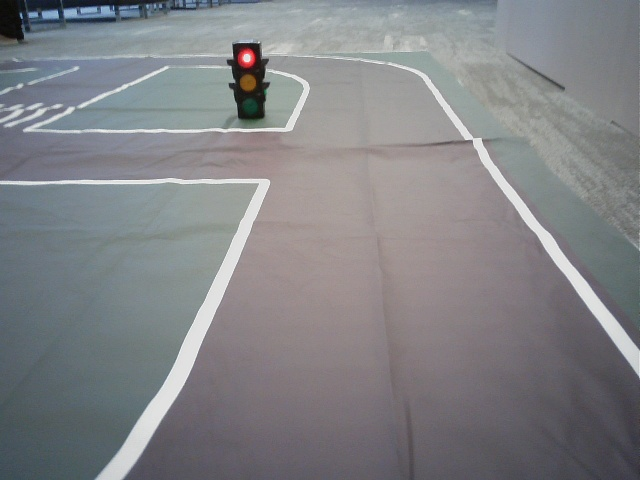red: (237, 45, 261, 118)
